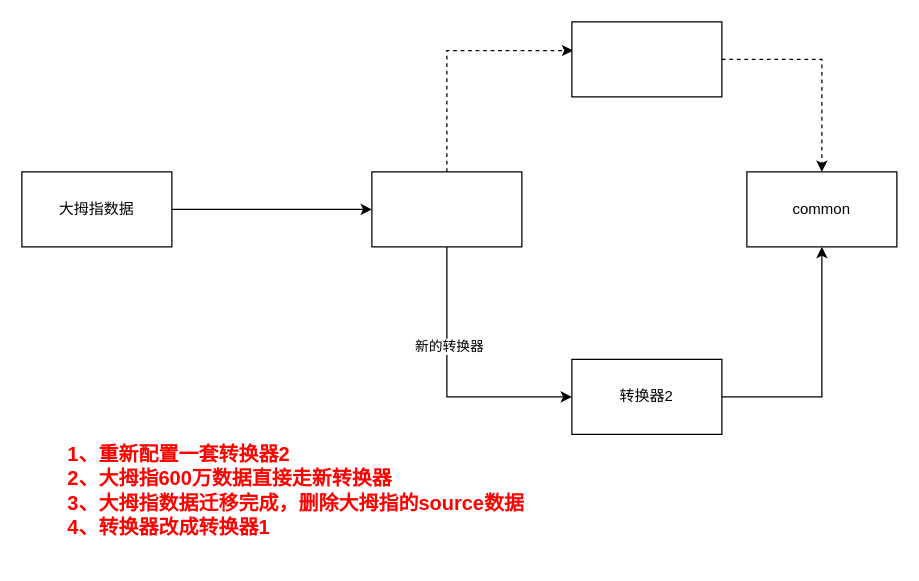
The diagram is 919 pixels wide and 581 high, and some of its shapes have lost their labels. Here are the shapes that lost their labels. From the top down, the box of each, then its label:
(571, 21, 722, 97): 转换器1
(371, 171, 522, 247): source
